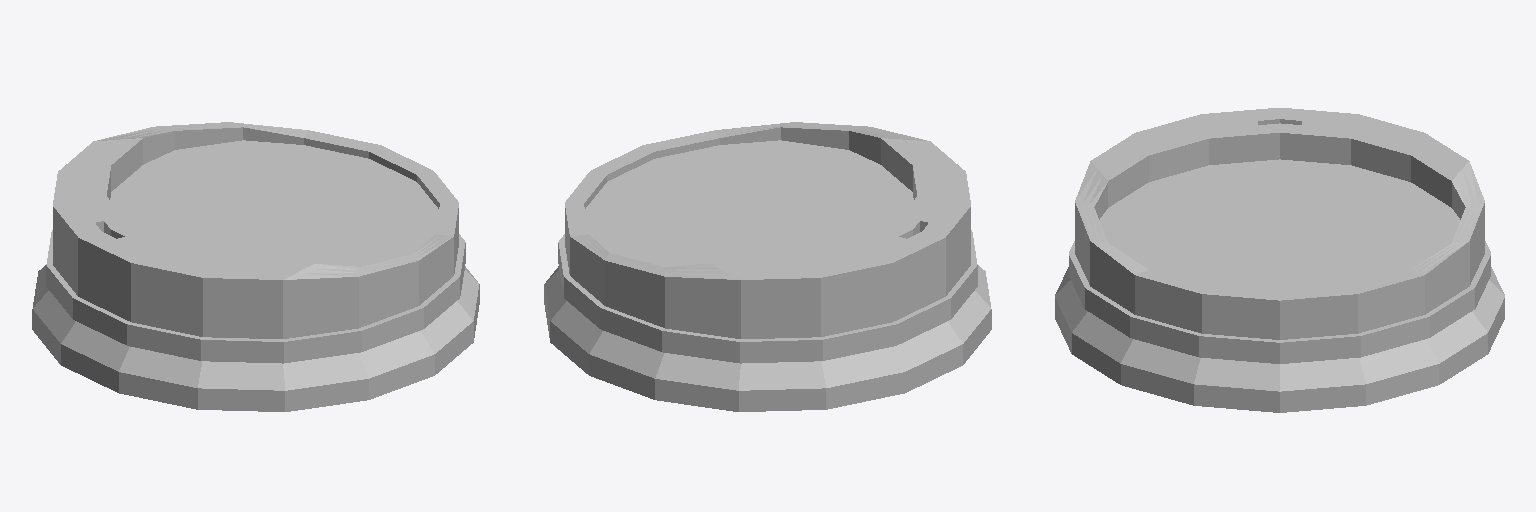
The model's file is lid_textured.obj.
3 views of the same model, side by side, from view 1: azimuth 30°, elevation 25°; view 2: azimuth 150°, elevation 25°; view 3: azimuth 270°, elevation 25° (orthographic).
Visible parts, largest first — view 1: Lid; view 2: Lid; view 3: Lid.
Part boxes in pixels (x1,y1,x2,y2): Lid: (32, 122, 479, 411); Lid: (544, 122, 991, 411); Lid: (1055, 108, 1504, 412).
Size of the model in its own units: 0.2704 by 0.0818 by 0.2704.